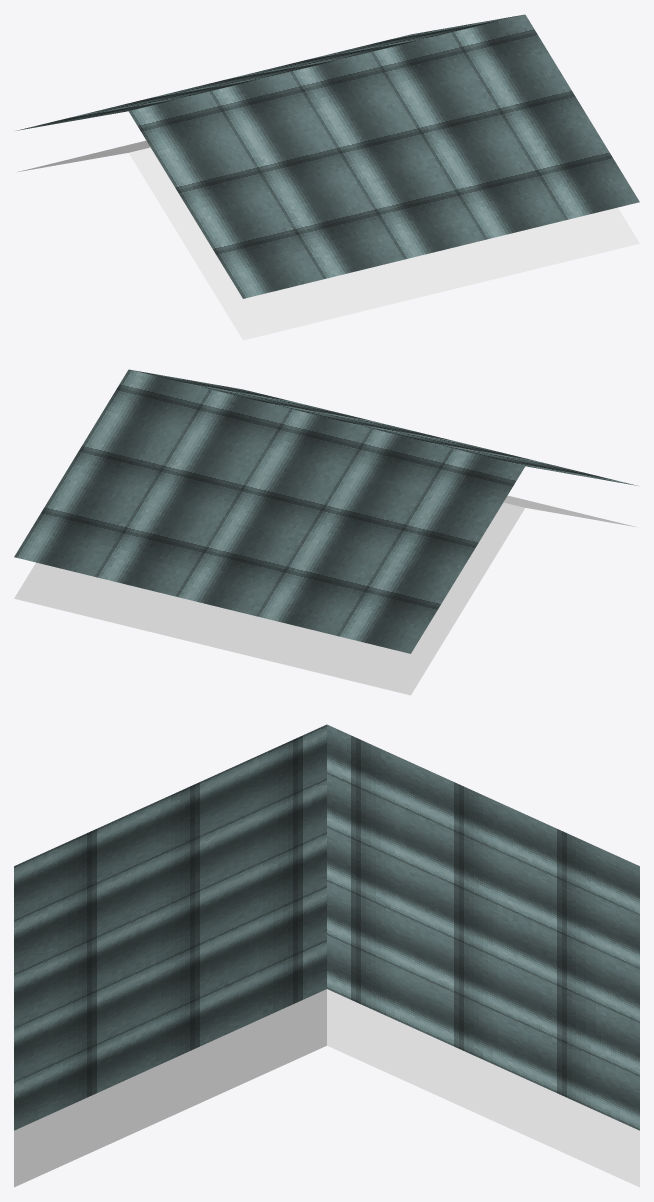
The model's file is roof_top_mid_2x2.glb.
The picture shows the model from 3 angles, top to bottom: view 1: azimuth 30°, elevation 25°; view 2: azimuth 150°, elevation 25°; view 3: azimuth 270°, elevation 25°; orthographic projection. The views are drawn at different scales.
Parts seen in each view (by area): view 1: roof_top_mid_2x2; view 2: roof_top_mid_2x2; view 3: roof_top_mid_2x2.
Boxes of the visible parts, <box> form: roof_top_mid_2x2: <box>16,14,639,340</box>; roof_top_mid_2x2: <box>14,369,637,695</box>; roof_top_mid_2x2: <box>14,724,639,1187</box>.
Size of the model in its own units: 2 by 0.7 by 2.
2 materials, 1 textured.
